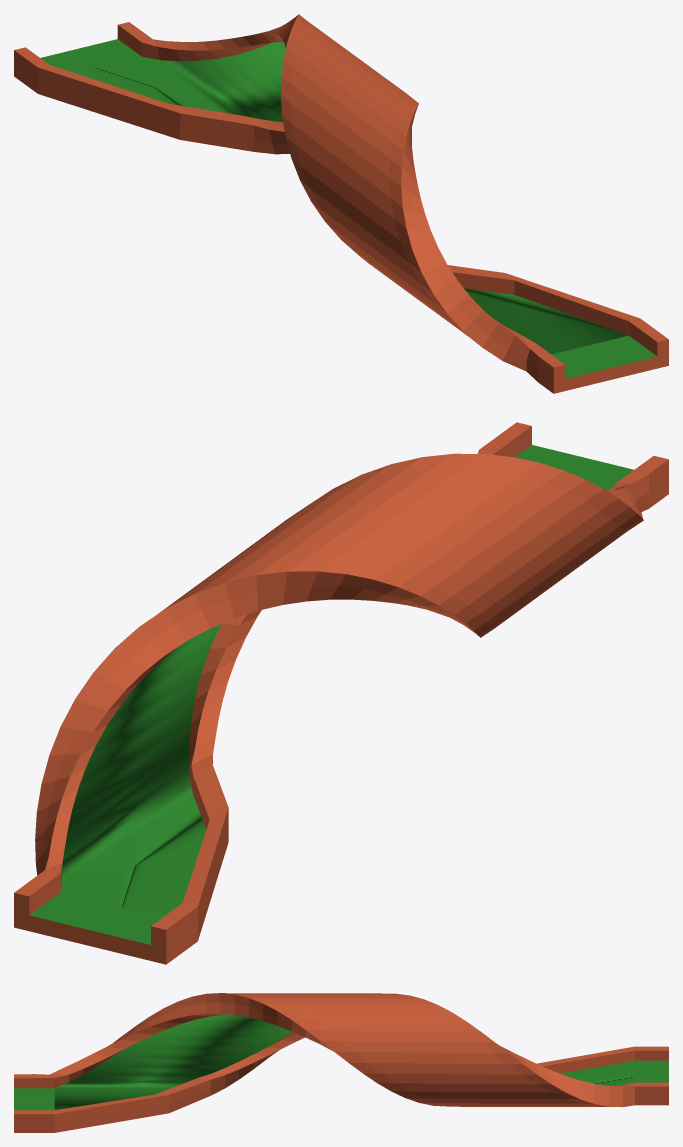
File: barrel_roll.fbx
The picture shows the model from 3 angles, top to bottom: view 1: azimuth 30°, elevation 25°; view 2: azimuth 150°, elevation 25°; view 3: azimuth 270°, elevation 25°; orthographic projection. The views are drawn at different scales.
Parts seen in each view (by area): view 1: BarrelRoll, WallRight, WallLeft; view 2: BarrelRoll, WallLeft, WallRight; view 3: BarrelRoll, WallRight, WallLeft.
Boxes of the visible parts, bbox=[...] form: BarrelRoll: bbox=[14, 14, 668, 393]; WallRight: bbox=[14, 47, 565, 381]; WallLeft: bbox=[117, 22, 668, 356]; BarrelRoll: bbox=[14, 445, 668, 964]; WallLeft: bbox=[14, 422, 531, 915]; WallRight: bbox=[151, 456, 668, 948]; BarrelRoll: bbox=[14, 993, 668, 1132]; WallRight: bbox=[14, 1002, 668, 1088]; WallLeft: bbox=[14, 1032, 668, 1124].
Bounding box in the file's own units: 338 × 238 × 1383.
